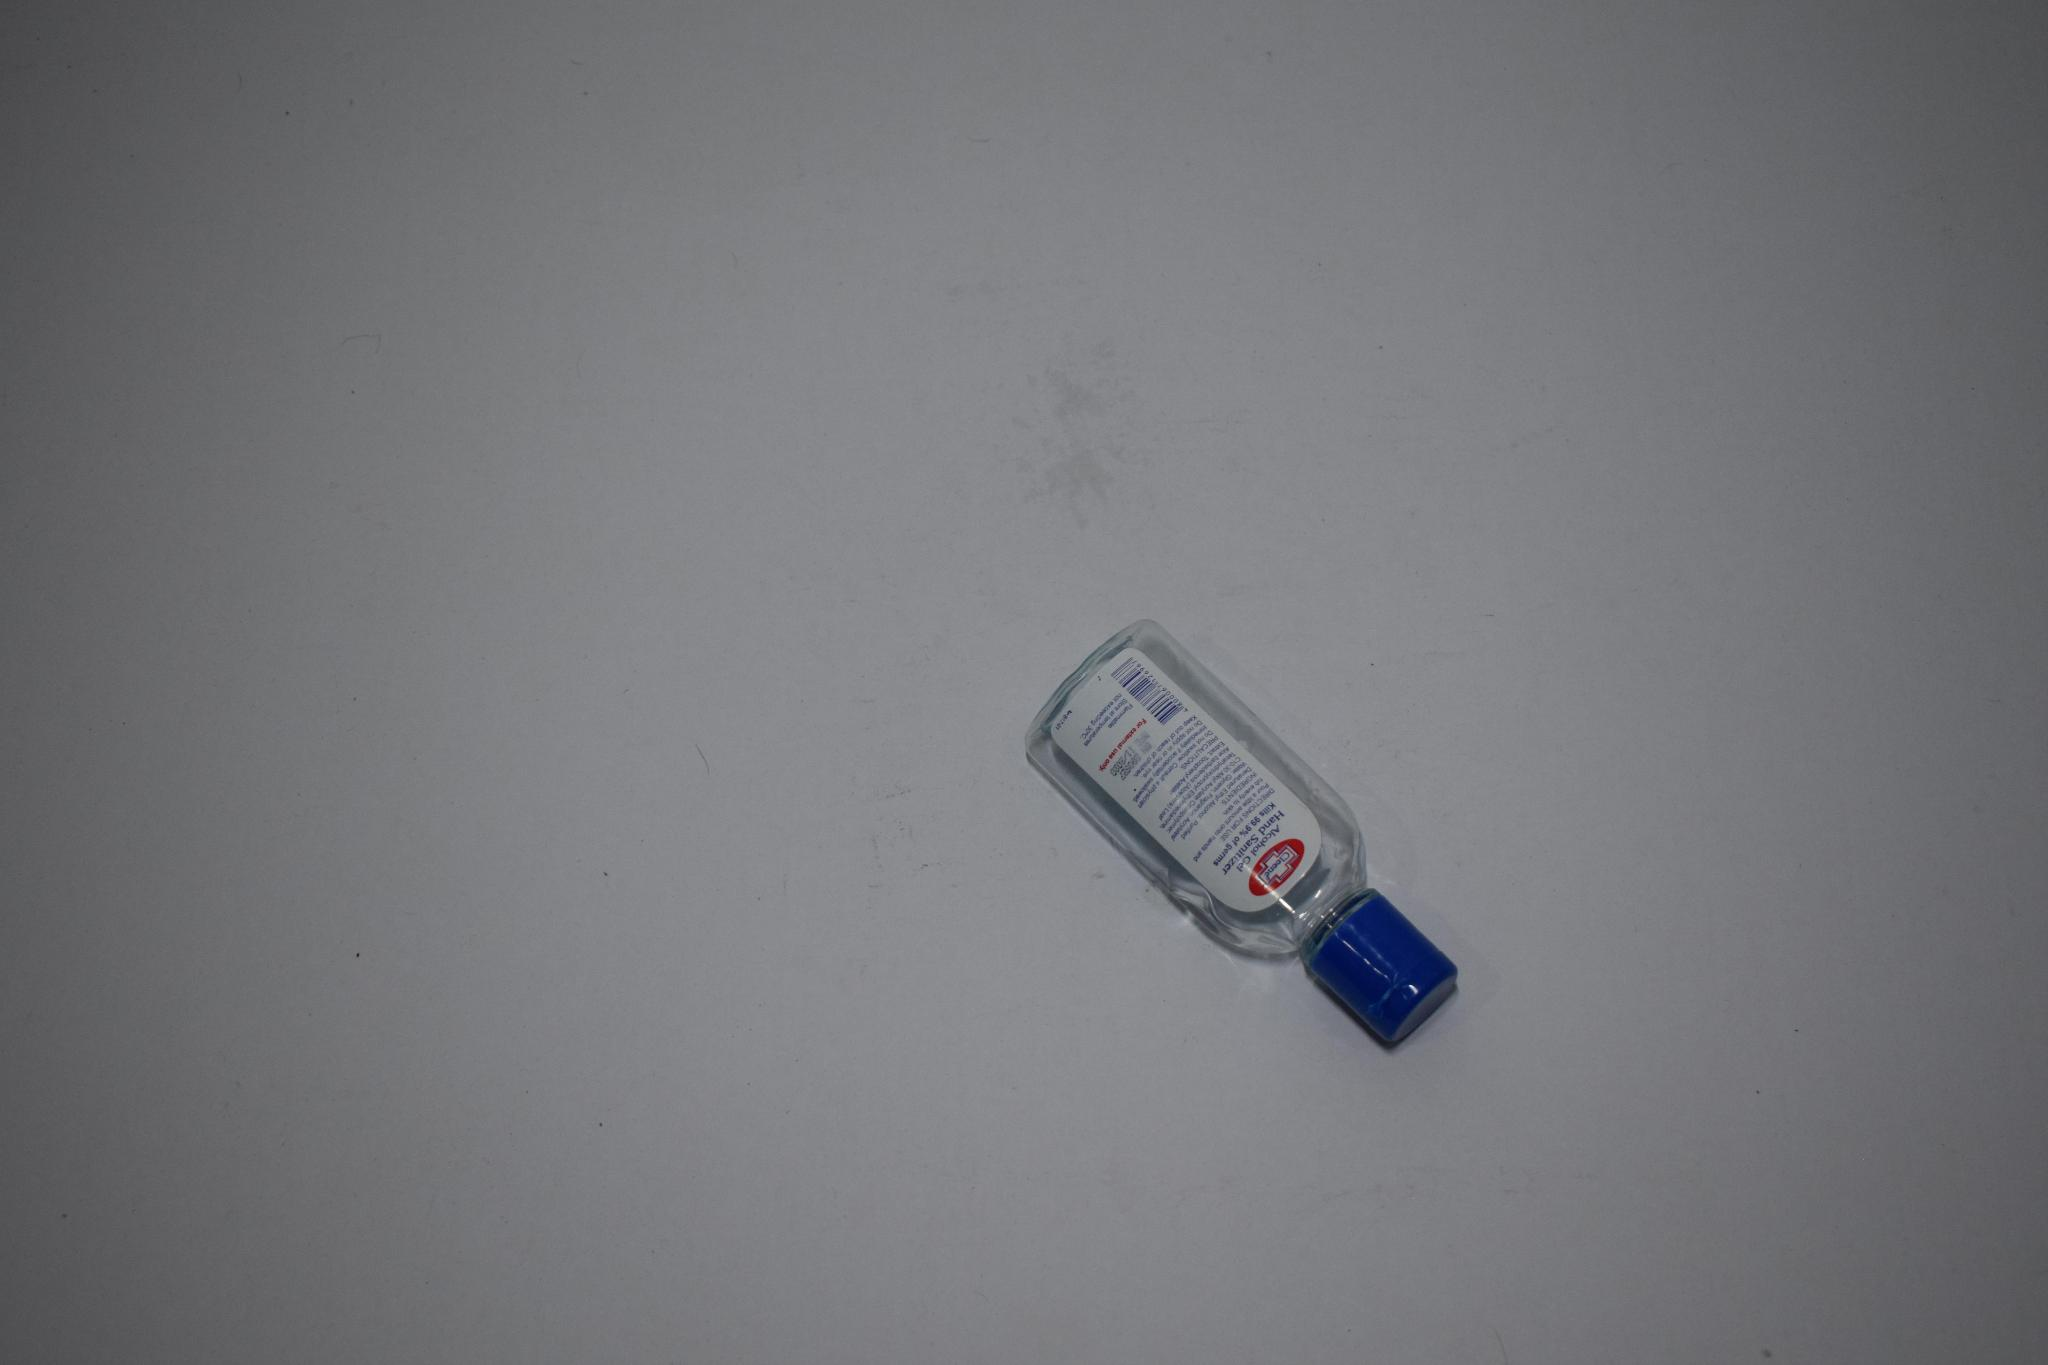bottle: (1017, 611, 1469, 1060)
